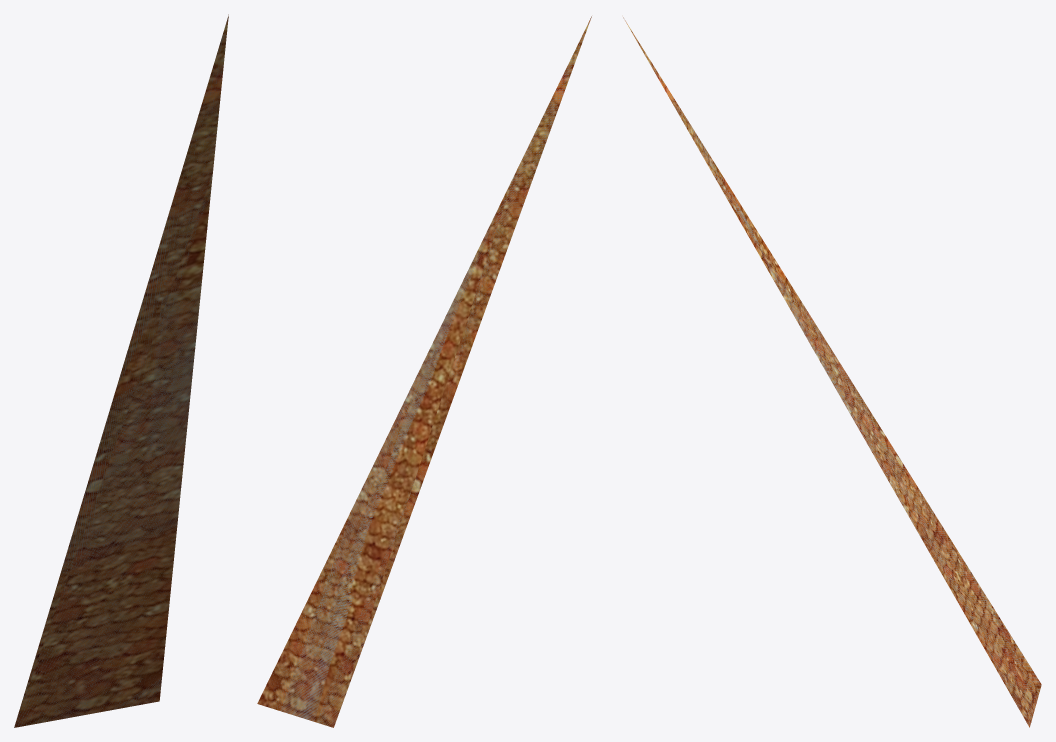
File: 西庸城堡157.dae
The picture shows the model from 3 angles, left to right: view 1: azimuth 30°, elevation 25°; view 2: azimuth 150°, elevation 25°; view 3: azimuth 270°, elevation 25°; orthographic projection. The views are drawn at different scales.
Visible parts, largest first — view 1: SketchUp; view 2: SketchUp; view 3: SketchUp.
Boxes of the visible parts, bbox=[...] form: SketchUp: bbox=[14, 14, 228, 727]; SketchUp: bbox=[257, 16, 591, 727]; SketchUp: bbox=[623, 17, 1041, 727].
Bounding box in the file's own units: 72.11 × 165 × 276.
